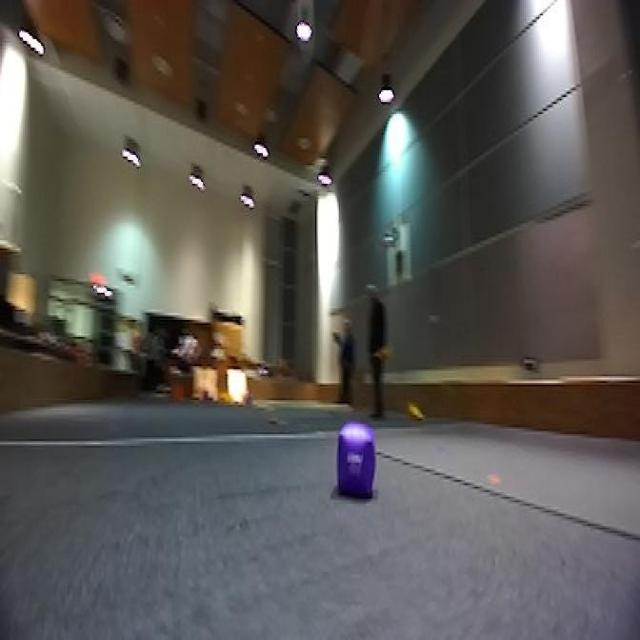frc_cone: (406, 395, 424, 422), (374, 342, 392, 363), (212, 388, 232, 405)
frc_cube: (334, 426, 376, 497), (197, 386, 212, 404), (245, 390, 257, 407)
